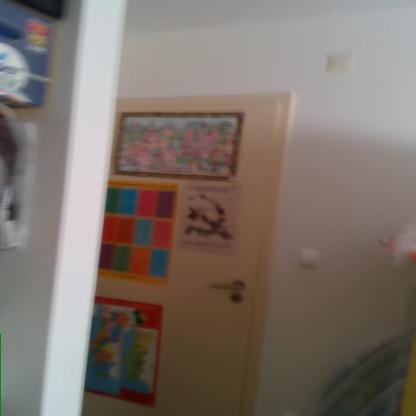closed: (78, 79, 302, 415)
